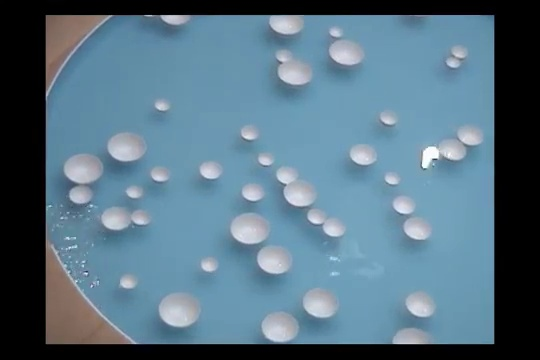bowl: (158, 292, 201, 328), (63, 153, 104, 184), (230, 213, 271, 244), (261, 311, 299, 341), (302, 288, 339, 318), (107, 133, 146, 161), (257, 245, 292, 274), (329, 40, 365, 65), (277, 61, 313, 86), (284, 181, 316, 207), (405, 291, 435, 318), (269, 15, 304, 35), (391, 327, 432, 344), (403, 217, 432, 241), (101, 207, 132, 229), (438, 139, 467, 160), (349, 144, 378, 165), (457, 125, 483, 147), (393, 196, 416, 215), (68, 186, 92, 204), (323, 218, 345, 237), (200, 161, 223, 179), (276, 166, 298, 184), (159, 14, 192, 26), (241, 184, 264, 201), (131, 210, 152, 225), (307, 208, 326, 224), (151, 167, 171, 182), (241, 125, 260, 140), (379, 110, 398, 125), (119, 274, 139, 288), (201, 257, 219, 272), (126, 185, 145, 198), (275, 49, 293, 61), (451, 46, 468, 58), (385, 172, 400, 185), (258, 153, 274, 165), (154, 100, 171, 111), (329, 26, 344, 38), (446, 57, 461, 68)
